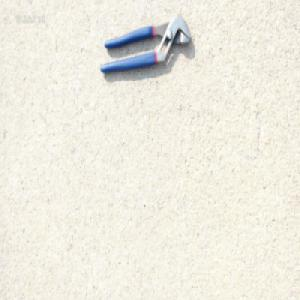Pliers: (98, 13, 191, 74)
